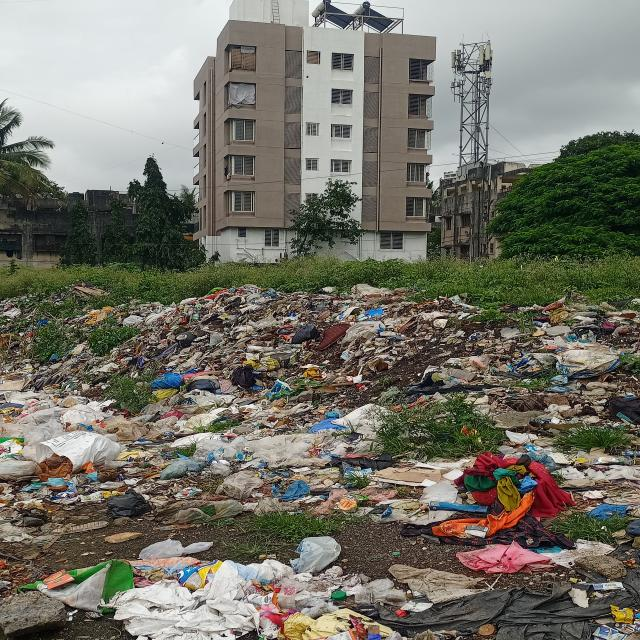garbage: (0, 292, 640, 640)
